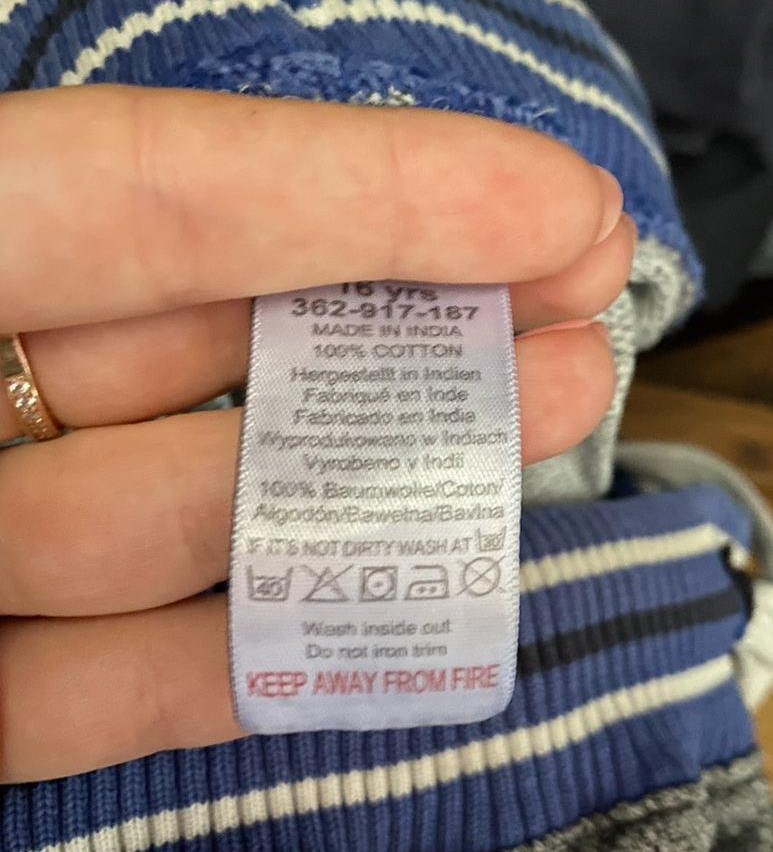do_not_bleach: (296, 559, 359, 608)
do_not_dry_clean: (451, 552, 512, 603)
ironing_at_med_temp: (403, 560, 453, 605)
tumble_drying_low_temps: (355, 560, 404, 606)
wash_at_or_below_40: (245, 564, 296, 604)
